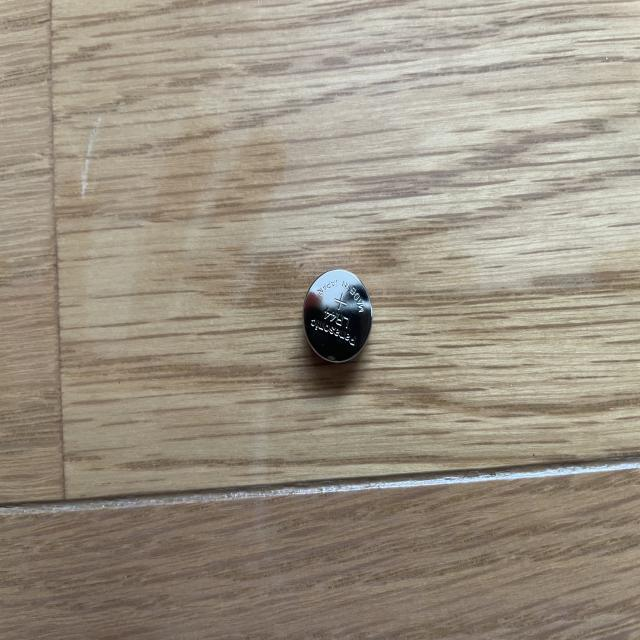COIN: (294, 268, 378, 371)
